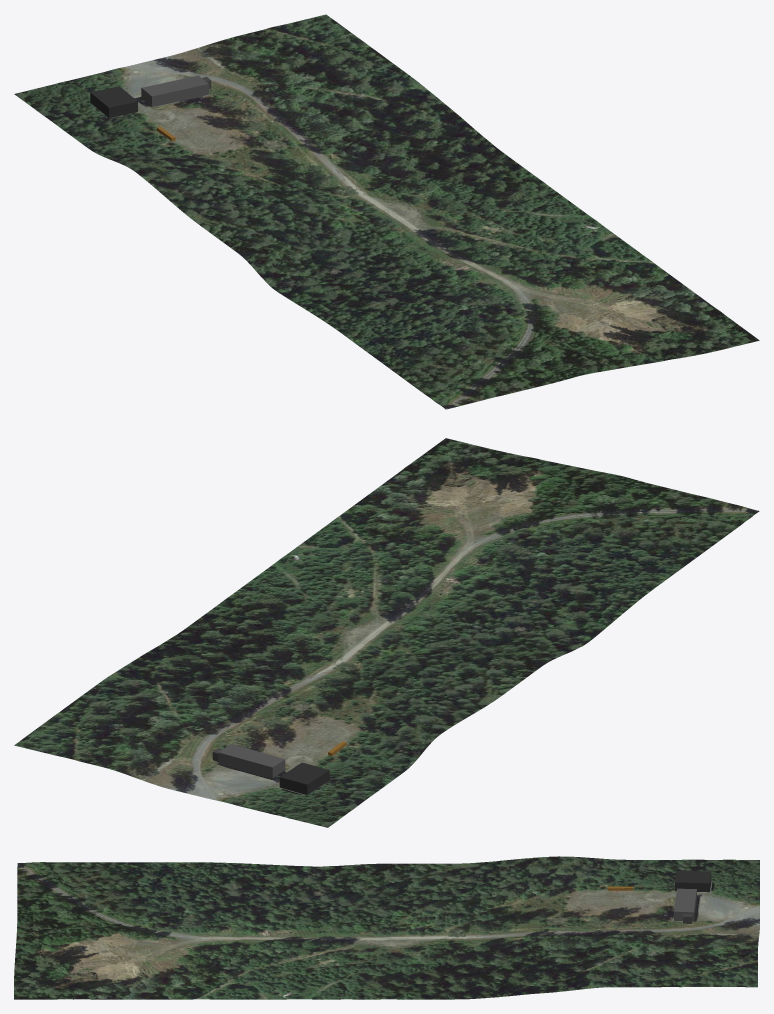
Rendered from heistadmoen_testrute.dae.
3 renders of one model, top to bottom at view 1: azimuth 30°, elevation 25°; view 2: azimuth 150°, elevation 25°; view 3: azimuth 270°, elevation 25°, orthographic. The views are drawn at different scales.
Parts seen in each view (by area): view 1: Cube.001; view 2: Cube.001; view 3: Cube.001.
Part boxes in pixels (x1,y1,x2,y2): Cube.001: [14, 14, 759, 409]; Cube.001: [14, 438, 759, 827]; Cube.001: [14, 856, 759, 999].
Bounding box in the file's own units: 45.3 × 107 × 2.69.
